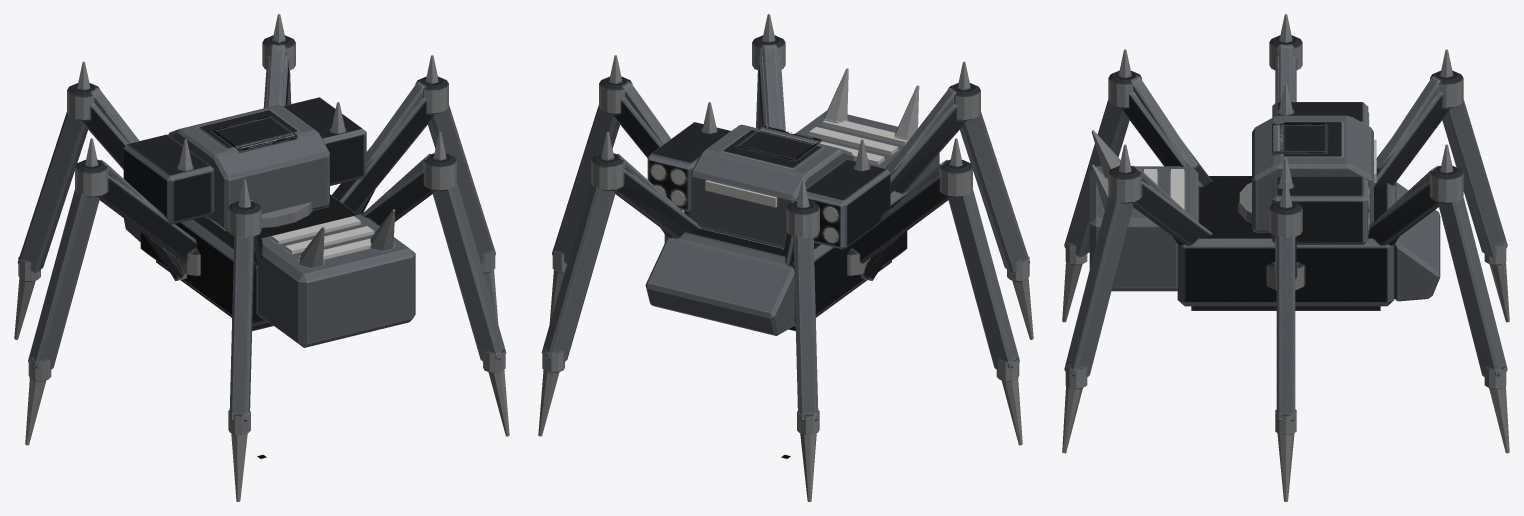
File: chs_widowmaker.fbx
3 renders of one model, left to right at view 1: azimuth 30°, elevation 25°; view 2: azimuth 150°, elevation 25°; view 3: azimuth 270°, elevation 25°, orthographic.
Visible parts, largest first — view 1: base_bar, torso_bar, shinML_bar, shinBR_bar, shinFL_bar, shinBL_bar, thighML_bar, thighMR_bar, shinMR_bar, thighBR_bar, thighFL_bar, base_glow_power_bar (+2 smaller); view 2: torso_bar, base_bar, shinML_bar, shinFR_bar, shinBL_bar, shinFL_bar, thighML_bar, thighBL_bar, thighFR_bar, shinMR_bar, thighMR_bar, thighBR_bar (+4 smaller); view 3: base_bar, torso_bar, shinBR_bar, shinFR_bar, shinFL_bar, shinMR_bar, thighFL_bar, thighBL_bar, shinBL_bar, thighBR_bar, thighFR_bar, thighMR_bar (+2 smaller).
Part boxes in pixels (x1,y1,x2,y2): base_bar: (124, 194, 415, 347); torso_bar: (123, 97, 366, 230); shinML_bar: (25, 138, 99, 445); shinBR_bar: (432, 132, 509, 436); shinFL_bar: (14, 61, 89, 339); shinBL_bar: (228, 179, 254, 501); thighML_bar: (75, 159, 200, 280); thighMR_bar: (332, 76, 448, 214); shinMR_bar: (426, 55, 498, 323); thighBR_bar: (361, 153, 456, 226); thighFL_bar: (67, 83, 139, 169); base_glow_power_bar: (271, 216, 374, 259); torso_bar: (647, 102, 890, 249); base_bar: (645, 68, 939, 335); shinML_bar: (948, 138, 1022, 445); shinFR_bar: (538, 132, 615, 436); shinBL_bar: (958, 61, 1033, 339); shinFL_bar: (793, 179, 819, 501); thighML_bar: (847, 159, 972, 280); thighBL_bar: (885, 83, 980, 193); thighFR_bar: (591, 153, 701, 238); shinMR_bar: (549, 55, 621, 323); thighMR_bar: (599, 76, 690, 215); thighBR_bar: (752, 35, 785, 131); base_bar: (1089, 130, 1440, 310); torso_bar: (1252, 83, 1373, 244); shinBR_bar: (1062, 144, 1133, 453); shinFR_bar: (1438, 144, 1509, 453); shinFL_bar: (1440, 49, 1509, 322); shinMR_bar: (1275, 180, 1296, 501); thighFL_bar: (1374, 70, 1463, 186); thighBL_bar: (1108, 70, 1212, 186); shinBL_bar: (1062, 49, 1131, 322); thighBR_bar: (1108, 165, 1212, 245); thighFR_bar: (1368, 165, 1463, 245); thighMR_bar: (1267, 200, 1304, 290).
Size of the model in its own units: 1451 by 1053 by 1190.
Materials: 2 (2 with a texture image).
